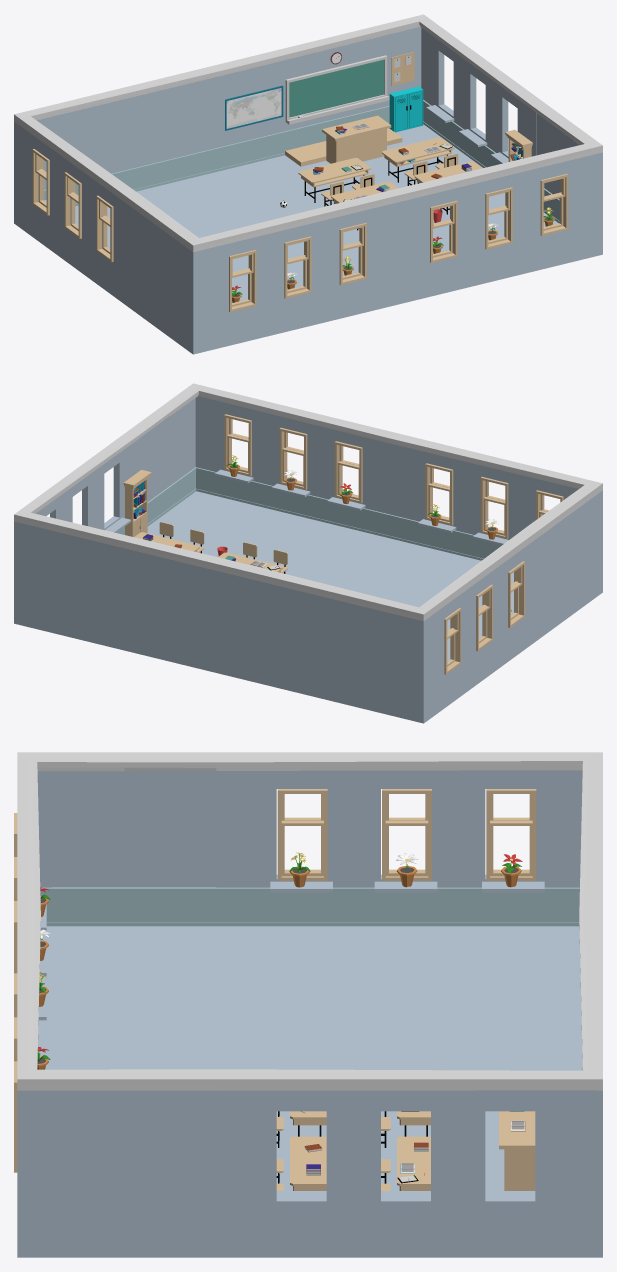
The model's file is classroom0911.fbx.
The picture shows the model from 3 angles, top to bottom: view 1: azimuth 30°, elevation 25°; view 2: azimuth 150°, elevation 25°; view 3: azimuth 270°, elevation 25°; orthographic projection. The views are drawn at different scales.
Parts seen in each view (by area): view 1: Classroom, Classroom.001, Blackboard, Teacher_Table, World_Map, Locker, Desk.001, Desk, Teaching_Platform, Window_Frame_Out_B, Window_Frame_Out_A, Window_Frame_Out_C (+10 smaller); view 2: Classroom, Classroom.001, Bookcase, Window_Frame_Out_C, Window_Frame_Out_B, Window_Frame_Out_C.001, Window_Frame_Out_A, Window_Frame_Out_B.002, Window_Frame_Out_B.001, Window_Frame_Out_A.001, Window_Frame_Out_A.002; view 3: Classroom, Classroom.001, Teacher_Table, Desk.002, Desk, Window_Frame_Out_C, Window_Frame_Out_A, Window_Frame_Out_B, Window_Frame_In_Big_B, Window_Frame_In_Big_C, Window_Frame_In_Big_A.
Part boxes in pixels (x1,y1,x2,y2): Classroom: [14, 14, 541, 309]; Classroom.001: [132, 101, 602, 354]; Blackboard: [285, 55, 389, 124]; Teacher_Table: [322, 115, 391, 163]; World_Map: [225, 85, 283, 130]; Locker: [389, 86, 423, 132]; Desk.001: [298, 157, 370, 202]; Desk: [382, 137, 454, 182]; Teaching_Platform: [285, 128, 402, 166]; Window_Frame_Out_B: [64, 172, 81, 238]; Window_Frame_Out_A: [96, 195, 113, 262]; Window_Frame_Out_C: [32, 149, 49, 215]; Classroom: [14, 428, 541, 723]; Classroom.001: [132, 383, 602, 636]; Bookcase: [123, 470, 151, 536]; Window_Frame_Out_C: [444, 608, 461, 674]; Window_Frame_Out_B: [476, 584, 493, 651]; Window_Frame_Out_C.001: [334, 441, 362, 503]; Window_Frame_Out_A: [508, 561, 525, 627]; Window_Frame_Out_B.002: [480, 477, 508, 538]; Window_Frame_Out_B.001: [279, 427, 307, 489]; Window_Frame_Out_A.001: [224, 414, 251, 476]; Window_Frame_Out_A.002: [425, 463, 453, 525]; Classroom: [216, 752, 602, 1257]; Classroom.001: [17, 752, 216, 1257]; Teacher_Table: [499, 1111, 535, 1190]; Desk.002: [290, 1136, 326, 1190]; Desk: [397, 1136, 430, 1190]; Window_Frame_Out_C: [486, 789, 536, 880]; Window_Frame_Out_A: [277, 789, 327, 880]; Window_Frame_Out_B: [382, 789, 431, 880]; Window_Frame_In_Big_B: [385, 820, 428, 876]; Window_Frame_In_Big_C: [490, 820, 532, 876]; Window_Frame_In_Big_A: [281, 820, 323, 876].
Size of the model in its own units: 1490 by 377 by 1130.
